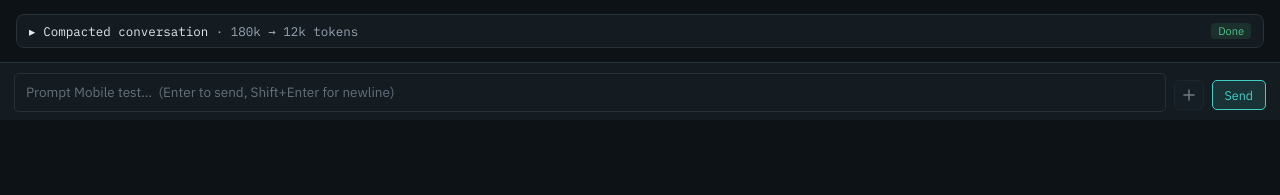
TranscriptPane voice rendering › patches one compaction card in place and shows its retained summary
The image size is (1280, 195).
Expected: the number of elements with class "compaction-card" is 1, [16,14,1264,48]
Expected: the element with class "title" reads "Compacted conversation · 180k → 12k tokens", [43,23,358,39]
Click the element with class "card-head" at [126, 31], box [29,23,1251,39]
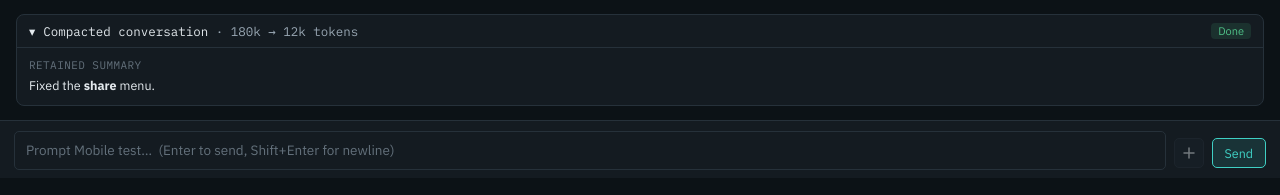
Now the text "Retained summary" is shown, box [29,58,142,72]
Now the text "share" is shown, box [84,77,117,93]
